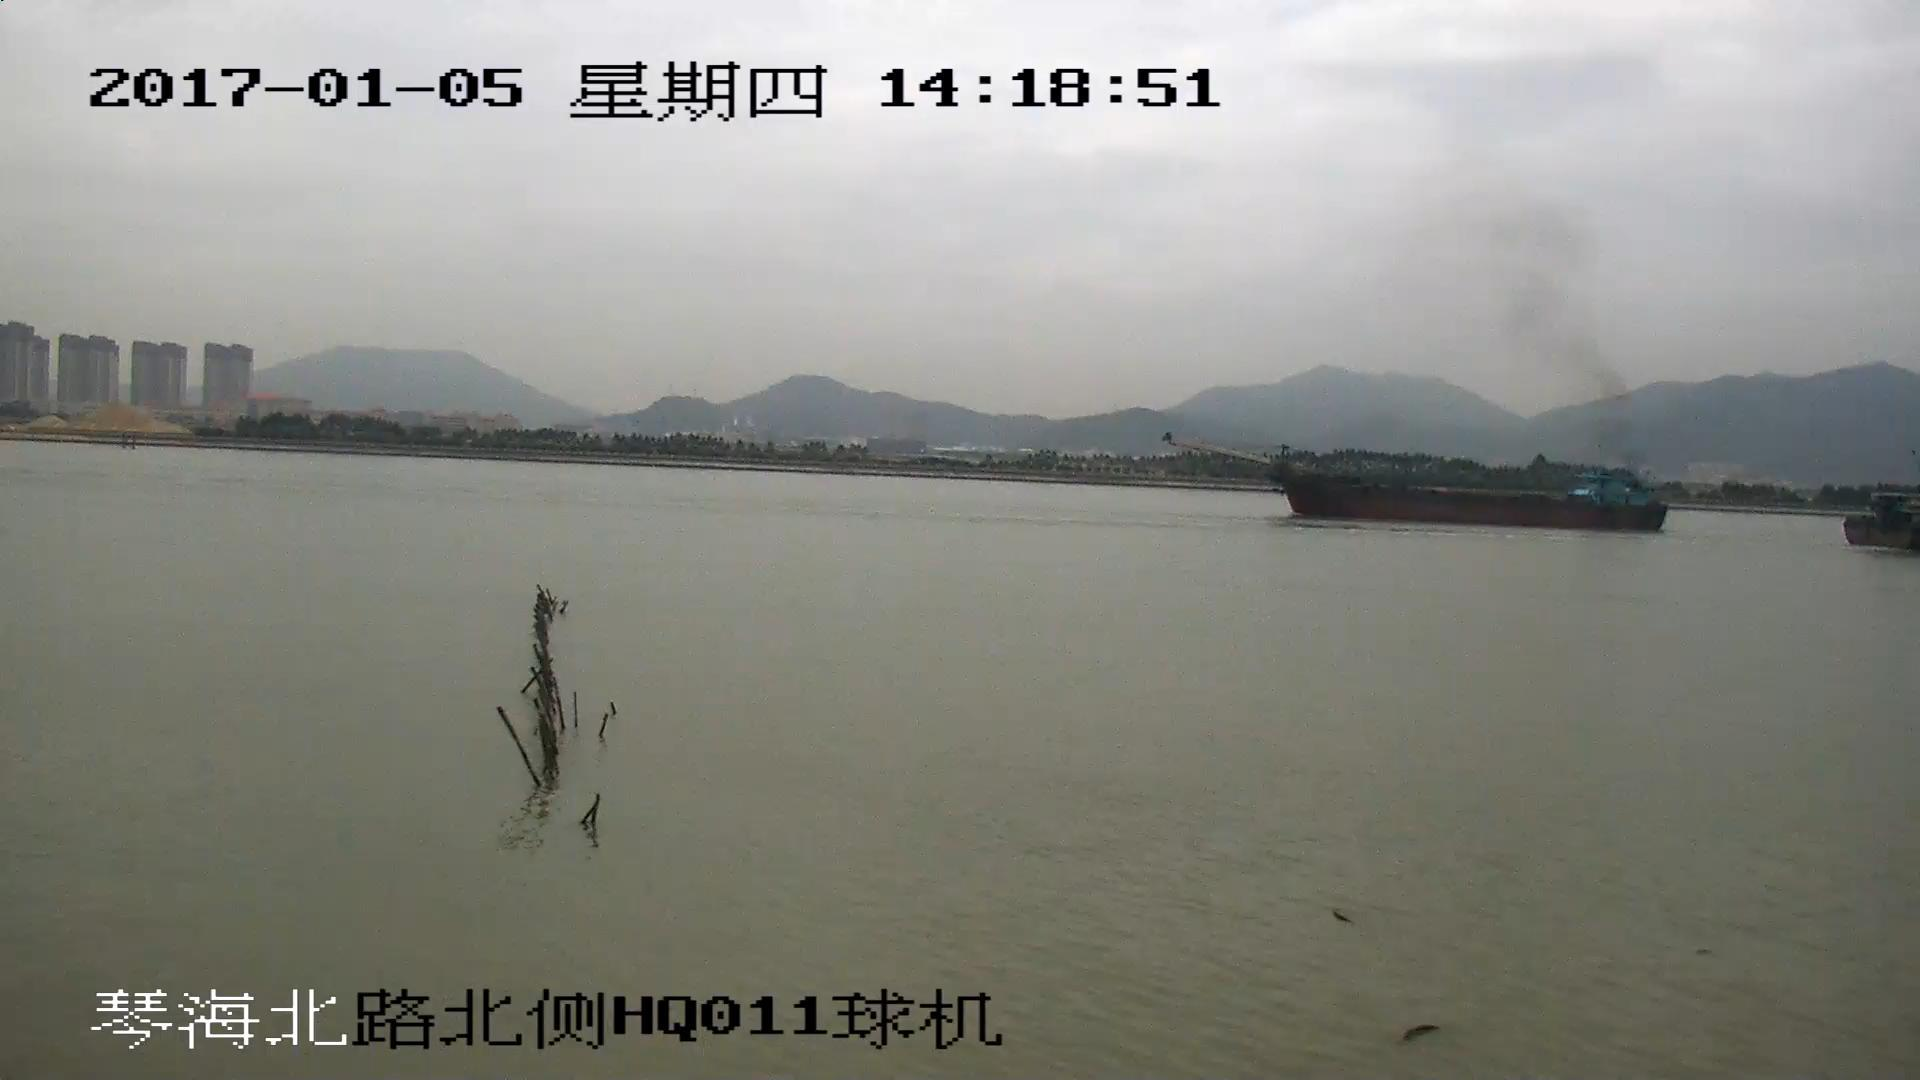Ship: (1166, 440, 1665, 531)
